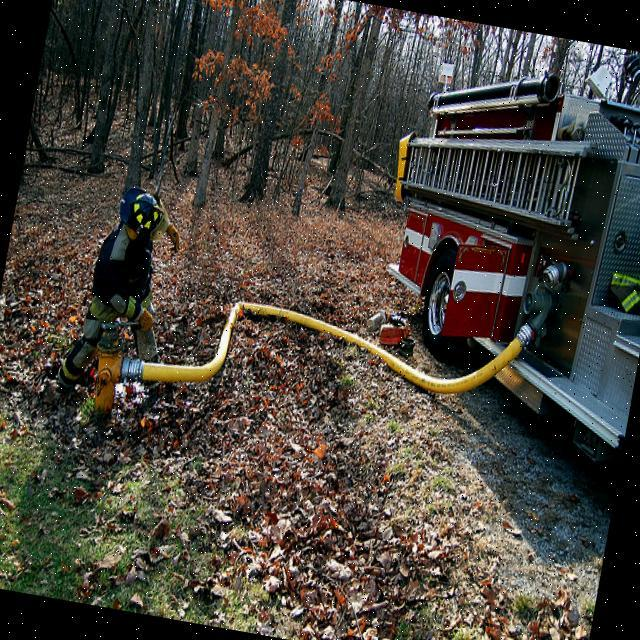fire_hydrant: (72, 312, 150, 424)
